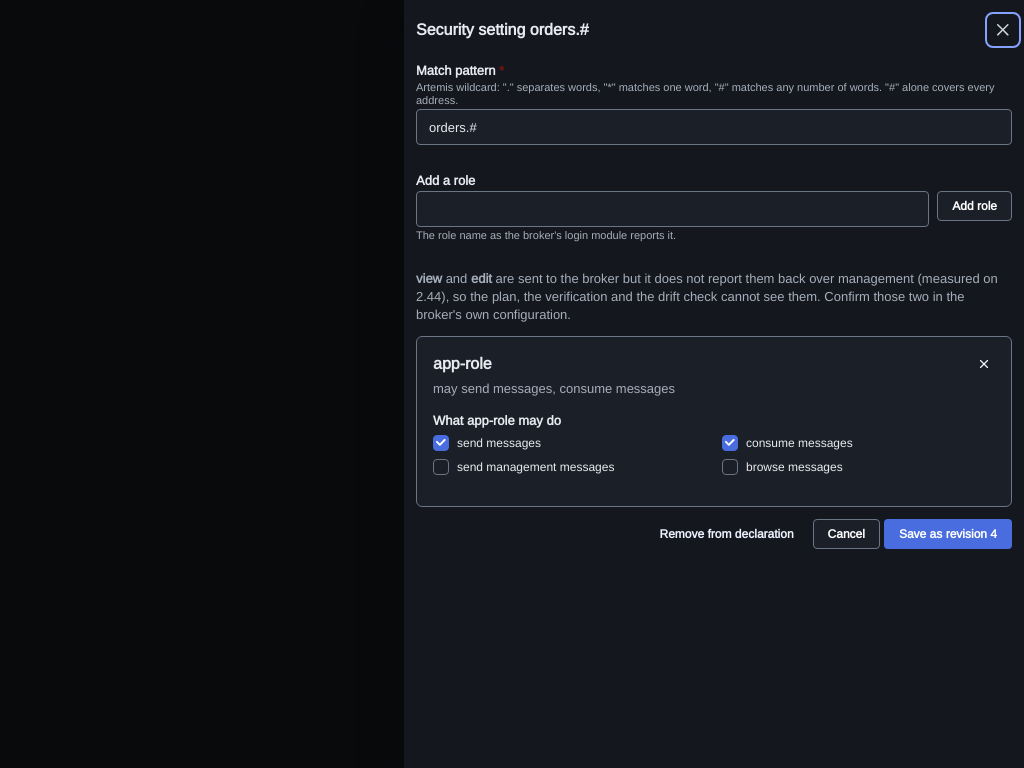
Test: SecuritySettingEditor › adds a role, which starts with nothing and says so, and removes it again
Type "ops-role" into the field labelled "Add a role". click: (673, 209)
box: x1=416 y1=191 x2=929 y2=227
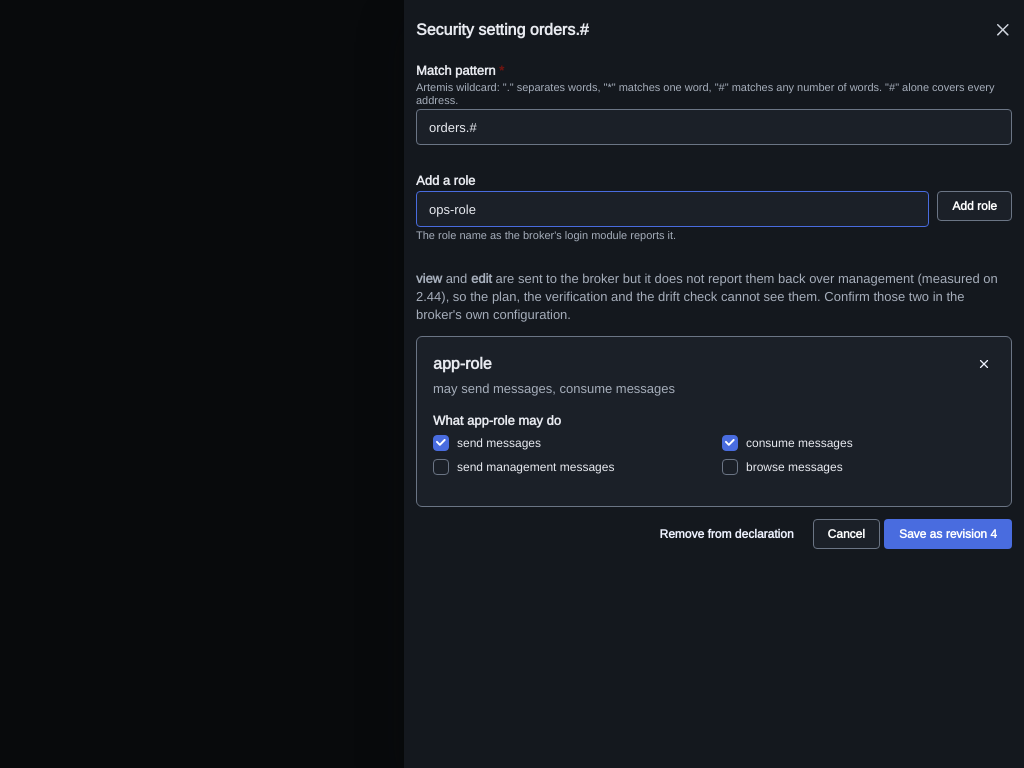
Click the button "Add role". click: (975, 206)
box: x1=937 y1=191 x2=1012 y2=221
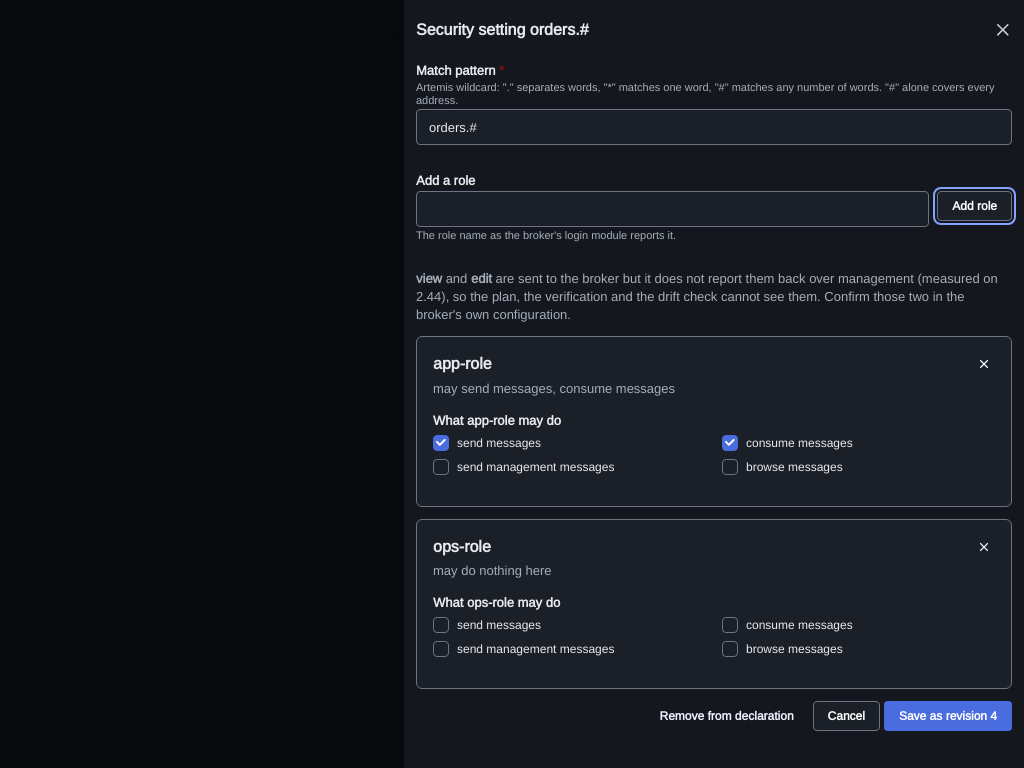
Expected: the text "may do nothing here" is shown, x1=433 y1=562 x2=552 y2=579
Click the button named "Remove role ops-role". click: (984, 547)
box: x1=973 y1=536 x2=995 y2=558
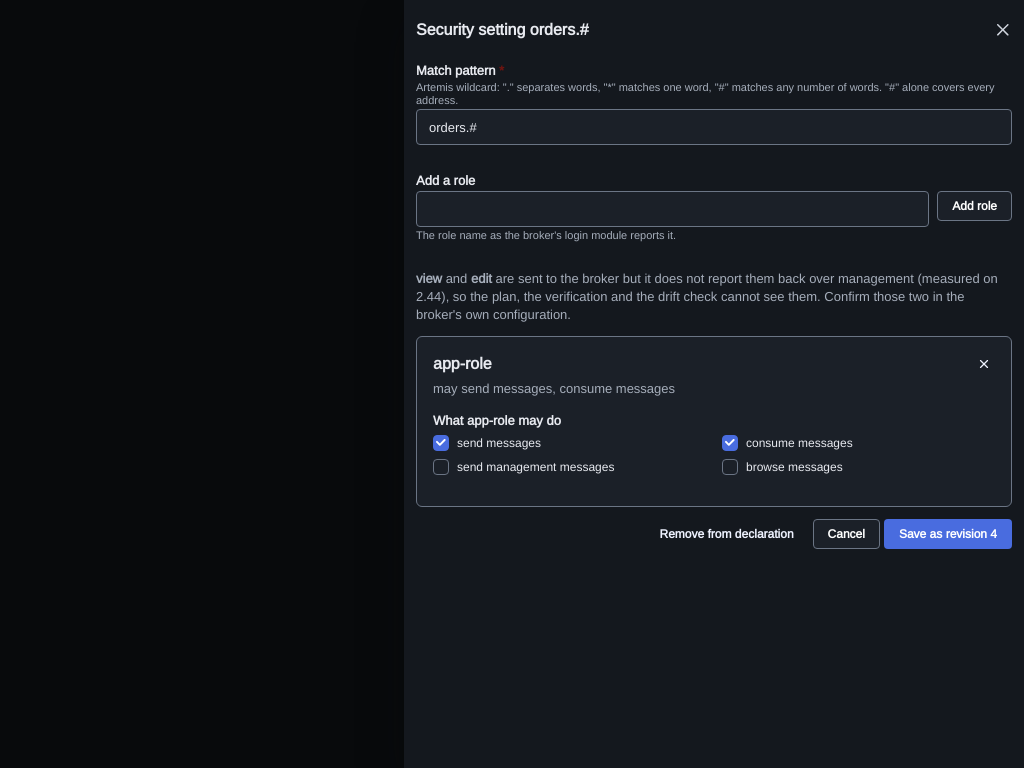
Expected: the heading "ops-role" is gone
